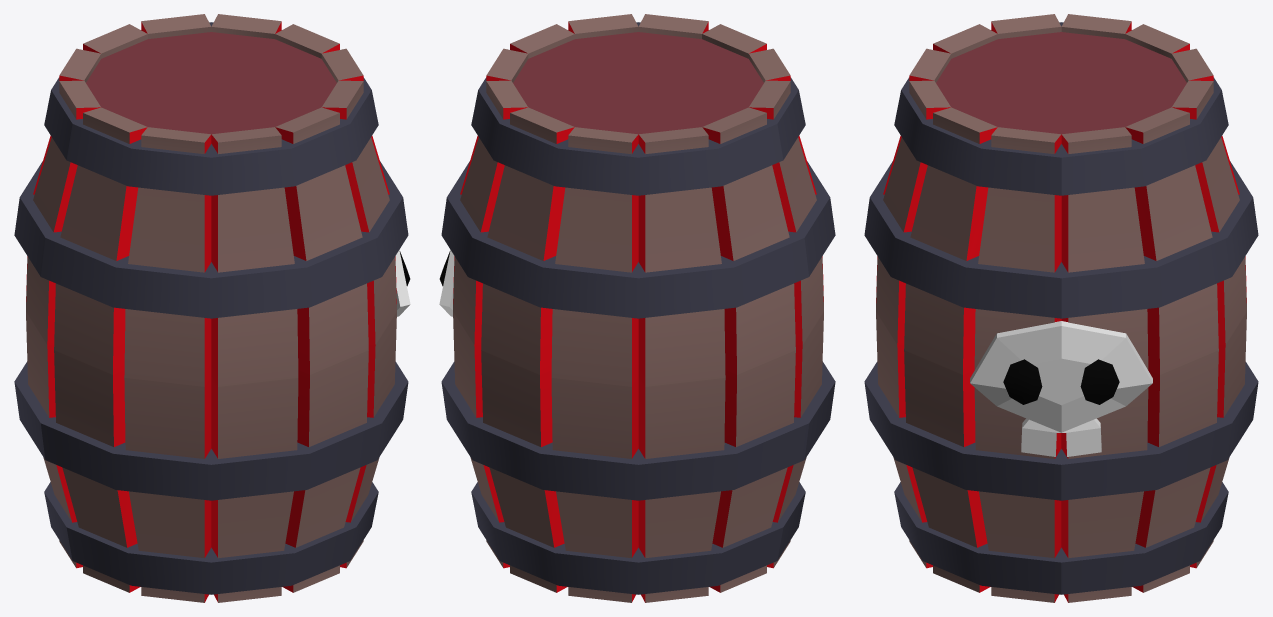
File: BombBarrel.fbx
3 renders of one model, left to right at view 1: azimuth 30°, elevation 25°; view 2: azimuth 150°, elevation 25°; view 3: azimuth 270°, elevation 25°, orthographic.
Visible parts, largest first — view 1: Cylinder; view 2: Cylinder; view 3: Cylinder.
Part boxes in pixels (box(x1,y1,x2,y2)): Cylinder: box(14, 14, 410, 602); Cylinder: box(439, 14, 835, 602); Cylinder: box(864, 14, 1258, 602).
Size of the model in its own units: 96.78 by 122 by 94.89.
